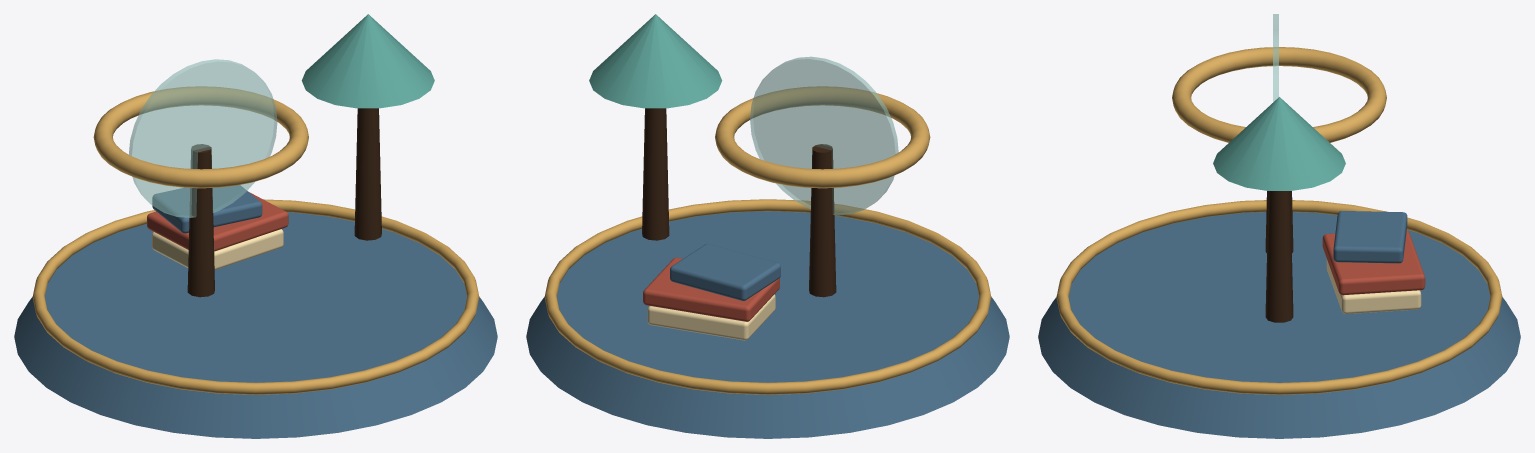
The model's file is mirror-lamp-self.glb.
The picture shows the model from 3 angles, left to right: view 1: azimuth 30°, elevation 25°; view 2: azimuth 150°, elevation 25°; view 3: azimuth 270°, elevation 25°; orthographic projection.
Visible parts, largest first — view 1: asset-plinth, mirror-glass, plinth-rim, mirror-frame, lamp-shade, lamp-stand, mirror-stand, book-cover-small, book-cover, book-pages; view 2: asset-plinth, mirror-glass, plinth-rim, mirror-frame, lamp-shade, book-cover-small, book-cover, lamp-stand, mirror-stand, book-pages; view 3: asset-plinth, plinth-rim, lamp-shade, mirror-frame, book-cover-small, book-cover, lamp-stand, book-pages, mirror-glass.
Boxes of the visible parts, left/top/right/bottom form: asset-plinth: left=14, top=212, right=497, bottom=438; mirror-glass: left=129, top=59, right=277, bottom=217; plinth-rim: left=32, top=199, right=479, bottom=394; mirror-frame: left=93, top=86, right=308, bottom=188; lamp-shade: left=301, top=14, right=434, bottom=108; lamp-stand: left=354, top=108, right=381, bottom=240; mirror-stand: left=187, top=144, right=214, bottom=297; book-cover-small: left=152, top=185, right=262, bottom=233; book-cover: left=147, top=192, right=288, bottom=251; book-pages: left=152, top=229, right=283, bottom=269; asset-plinth: left=526, top=211, right=1009, bottom=438; mirror-glass: left=750, top=56, right=898, bottom=215; plinth-rim: left=544, top=199, right=991, bottom=394; mirror-frame: left=715, top=86, right=930, bottom=188; lamp-shade: left=589, top=14, right=722, bottom=108; book-cover-small: left=670, top=243, right=780, bottom=300; book-cover: left=643, top=257, right=779, bottom=321; lamp-stand: left=642, top=108, right=669, bottom=240; mirror-stand: left=809, top=144, right=836, bottom=297; book-pages: left=647, top=294, right=775, bottom=340; asset-plinth: left=1038, top=212, right=1520, bottom=438; plinth-rim: left=1056, top=200, right=1502, bottom=394; lamp-shade: left=1213, top=97, right=1345, bottom=190; mirror-frame: left=1172, top=47, right=1386, bottom=142; book-cover-small: left=1333, top=211, right=1407, bottom=263; book-cover: left=1322, top=230, right=1425, bottom=295; lamp-stand: left=1265, top=191, right=1293, bottom=322; book-pages: left=1326, top=259, right=1421, bottom=313; mirror-glass: left=1273, top=14, right=1278, bottom=102.
Size of the model in its own units: 2.76 by 1.86 by 2.76.
